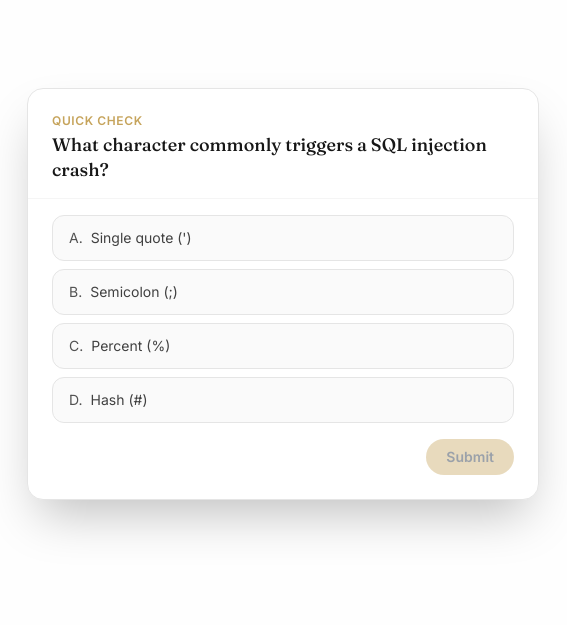
Scenario: QuizOverlay › shows correct/incorrect feedback with the explanation after submit
The width and height of the screenshot is (567, 625).
Click the radio button "Single quote (')".
click(141, 238)  # box [52,215,514,261]
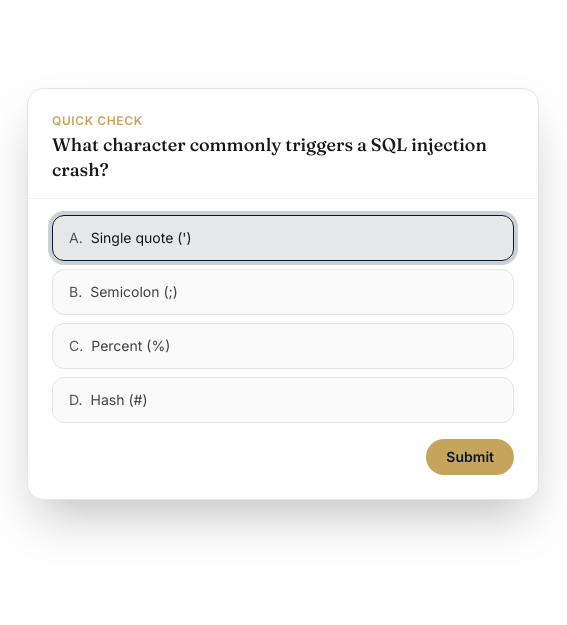
Click the button "Submit".
click(470, 457)  # box [426,439,514,475]
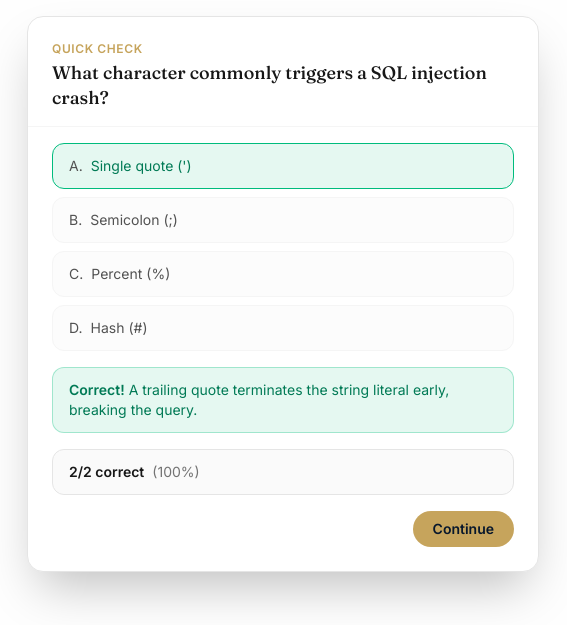
Expected: the text "Correct!" is shown, [69,381,125,398]
Expected: the text "A trailing quote terminates the string literal early, breaking the query." is shown, [69,381,449,418]
